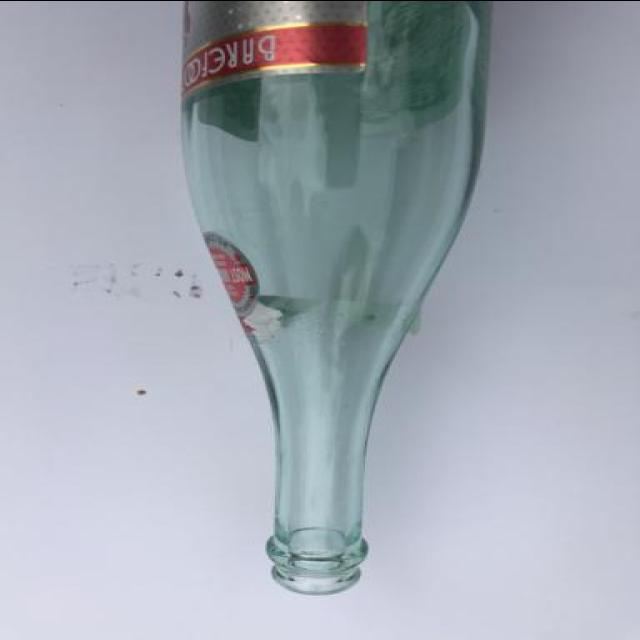Glass Bottle: (178, 1, 496, 595)
